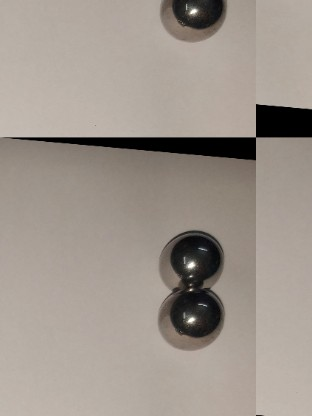ironball: (152, 284, 223, 353), (159, 230, 227, 293), (157, 0, 227, 46)
